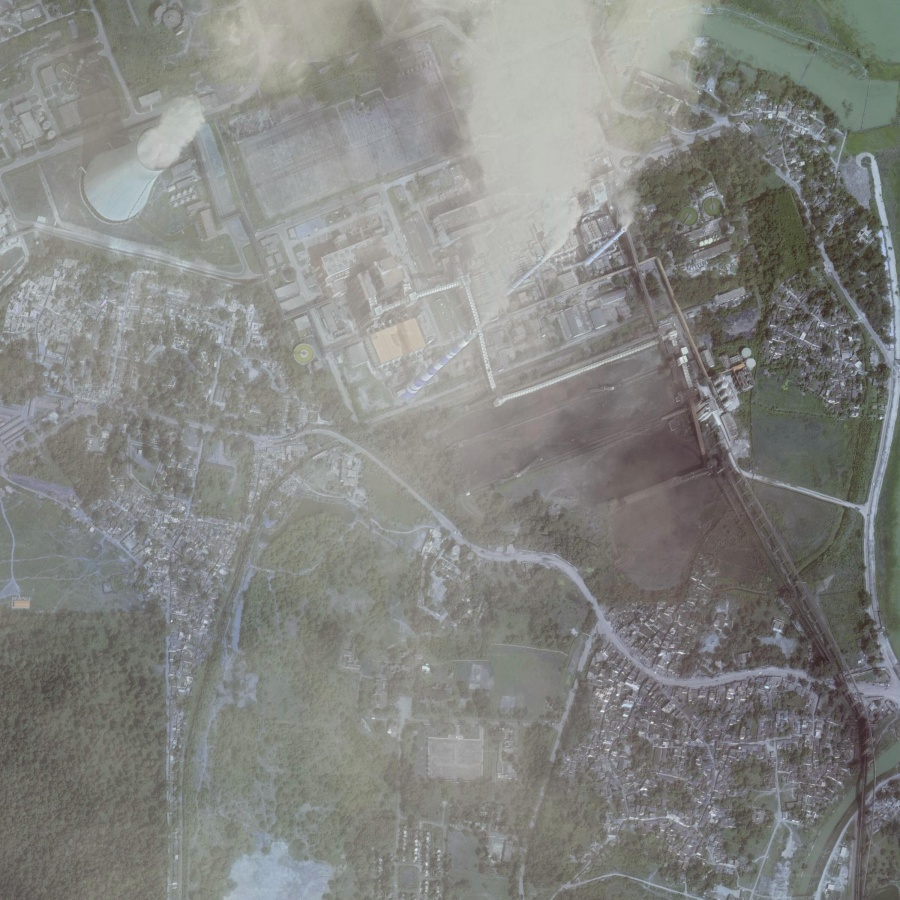PowerPlant: (364, 149, 654, 430), (73, 56, 228, 267)
